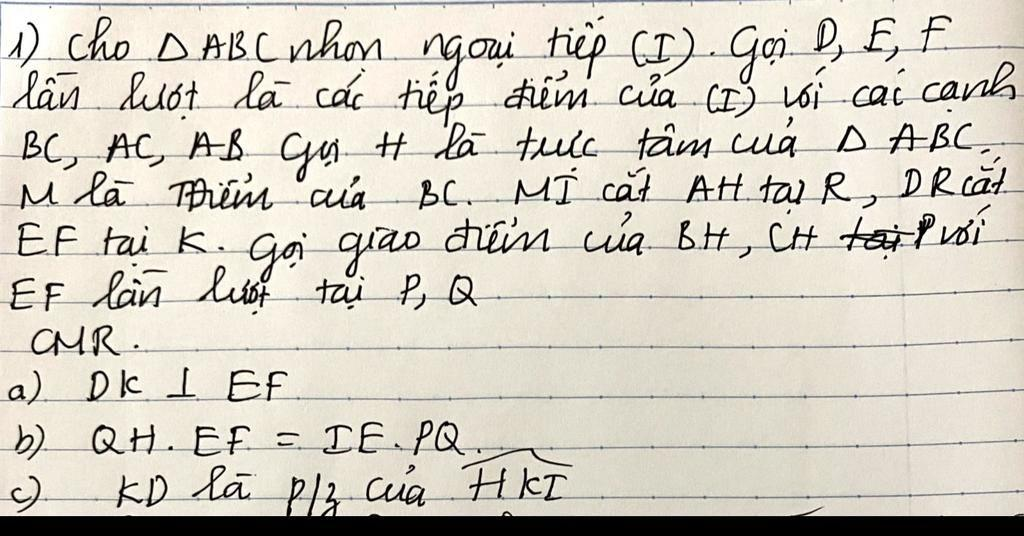text: (12, 201, 994, 287), (6, 12, 954, 92), (9, 58, 1018, 128), (17, 120, 978, 186), (17, 155, 1011, 218), (6, 445, 576, 516), (7, 262, 482, 320), (11, 416, 468, 462), (5, 366, 292, 407), (28, 322, 142, 359)
